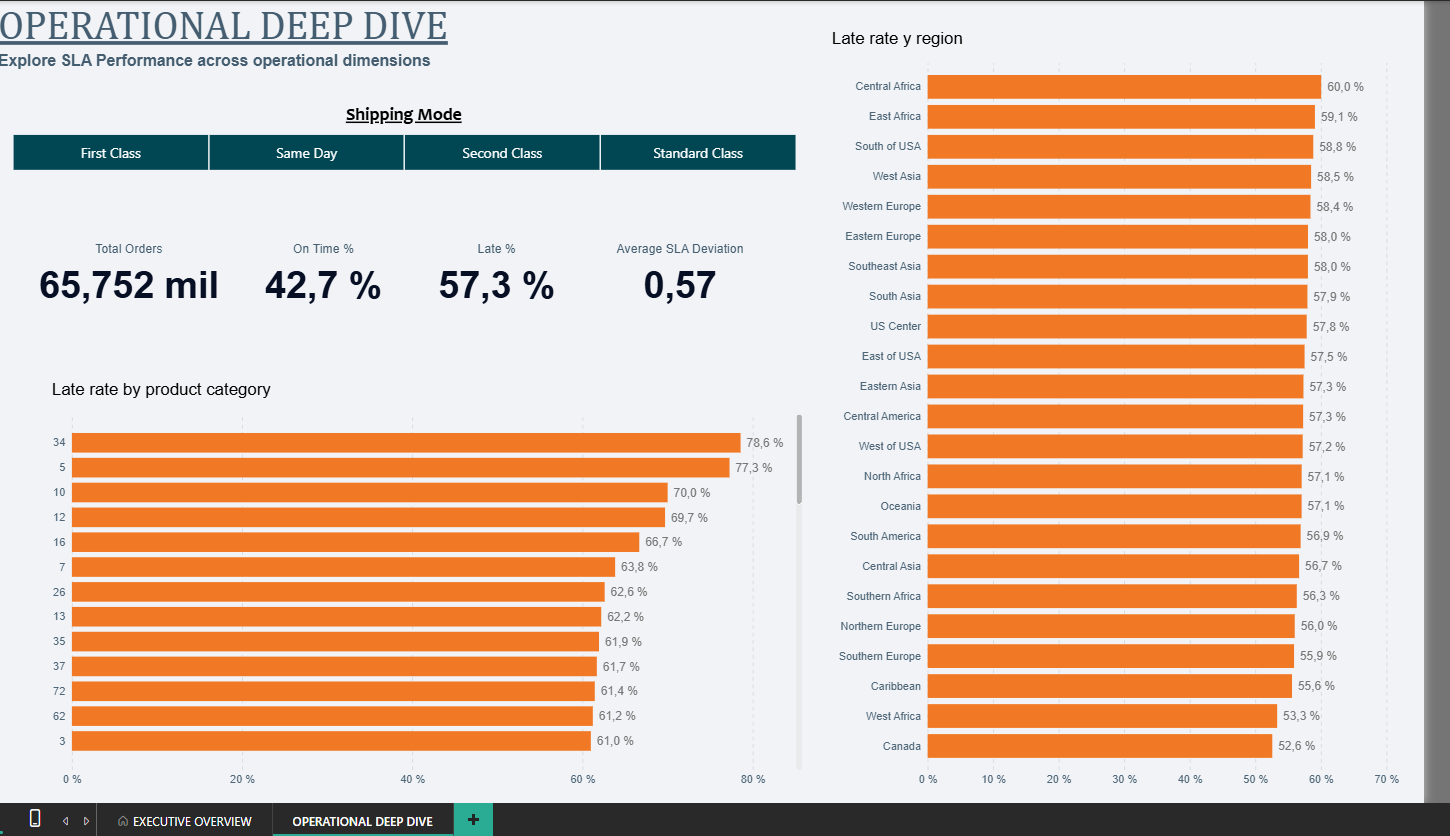

The dashboard page shown, as its layout file describes it:
{"tool":"powerbi","page":{"name":"OPERATIONAL DEEP DIVE","canvas":[1920,1080],"ordinal":1},"visuals":[{"type":"slicer","title":"Shipping Mode","fields":{"Values":["Orders.Sipping mode"]},"box":[0,137.1,1092.8,91.9],"z":0},{"type":"barChart","title":"Late rate y region","fields":{"Category":["Orders.Region"],"Y":["Orders.Late %"]},"box":[1103,17.5,803.9,1062.1],"z":1000},{"type":"barChart","title":"Late rate by product category","fields":{"Y":["Orders.Late %"],"Category":["Orders.Product/category ID"]},"box":[52.5,490.2,1050.5,589.4],"z":2000},{"type":"cardVisual","fields":{"Data":["Orders.Total Orders"]},"box":[36.5,281.6,280.1,150.3],"z":3000},{"type":"cardVisual","fields":{"Data":["Orders.On Time %"]},"box":[329.7,281.6,217.4,150.3],"z":4000},{"type":"cardVisual","fields":{"Data":["Orders.Late %"]},"box":[577.8,281.6,188.2,150.3],"z":5000},{"type":"cardVisual","fields":{"Data":["Orders.Average SLA Deviation"]},"box":[795.1,281.6,248,150.3],"z":6000},{"type":"textbox","box":[0,0,633.2,68.6],"z":6001},{"type":"textbox","box":[0,68.6,633.2,40.9],"z":6002}]}

Visuals, with their boxes on the page's 1920x1080 design canvas (x1, y1, x2, y2). These are canvas units, not pixel positions in the 1450x836 screenshot, which may show the page scaled, cropped or inside an application window:
"Shipping Mode" slicer: crop(0, 137, 1093, 229)
"Late rate y region" barChart: crop(1103, 18, 1907, 1080)
"Late rate by product category" barChart: crop(52, 490, 1103, 1080)
cardVisual - Orders.Total Orders: crop(36, 282, 317, 432)
cardVisual - Orders.On Time %: crop(330, 282, 547, 432)
cardVisual - Orders.Late %: crop(578, 282, 766, 432)
cardVisual - Orders.Average SLA Deviation: crop(795, 282, 1043, 432)
textbox: crop(0, 0, 633, 69)
textbox: crop(0, 69, 633, 110)
